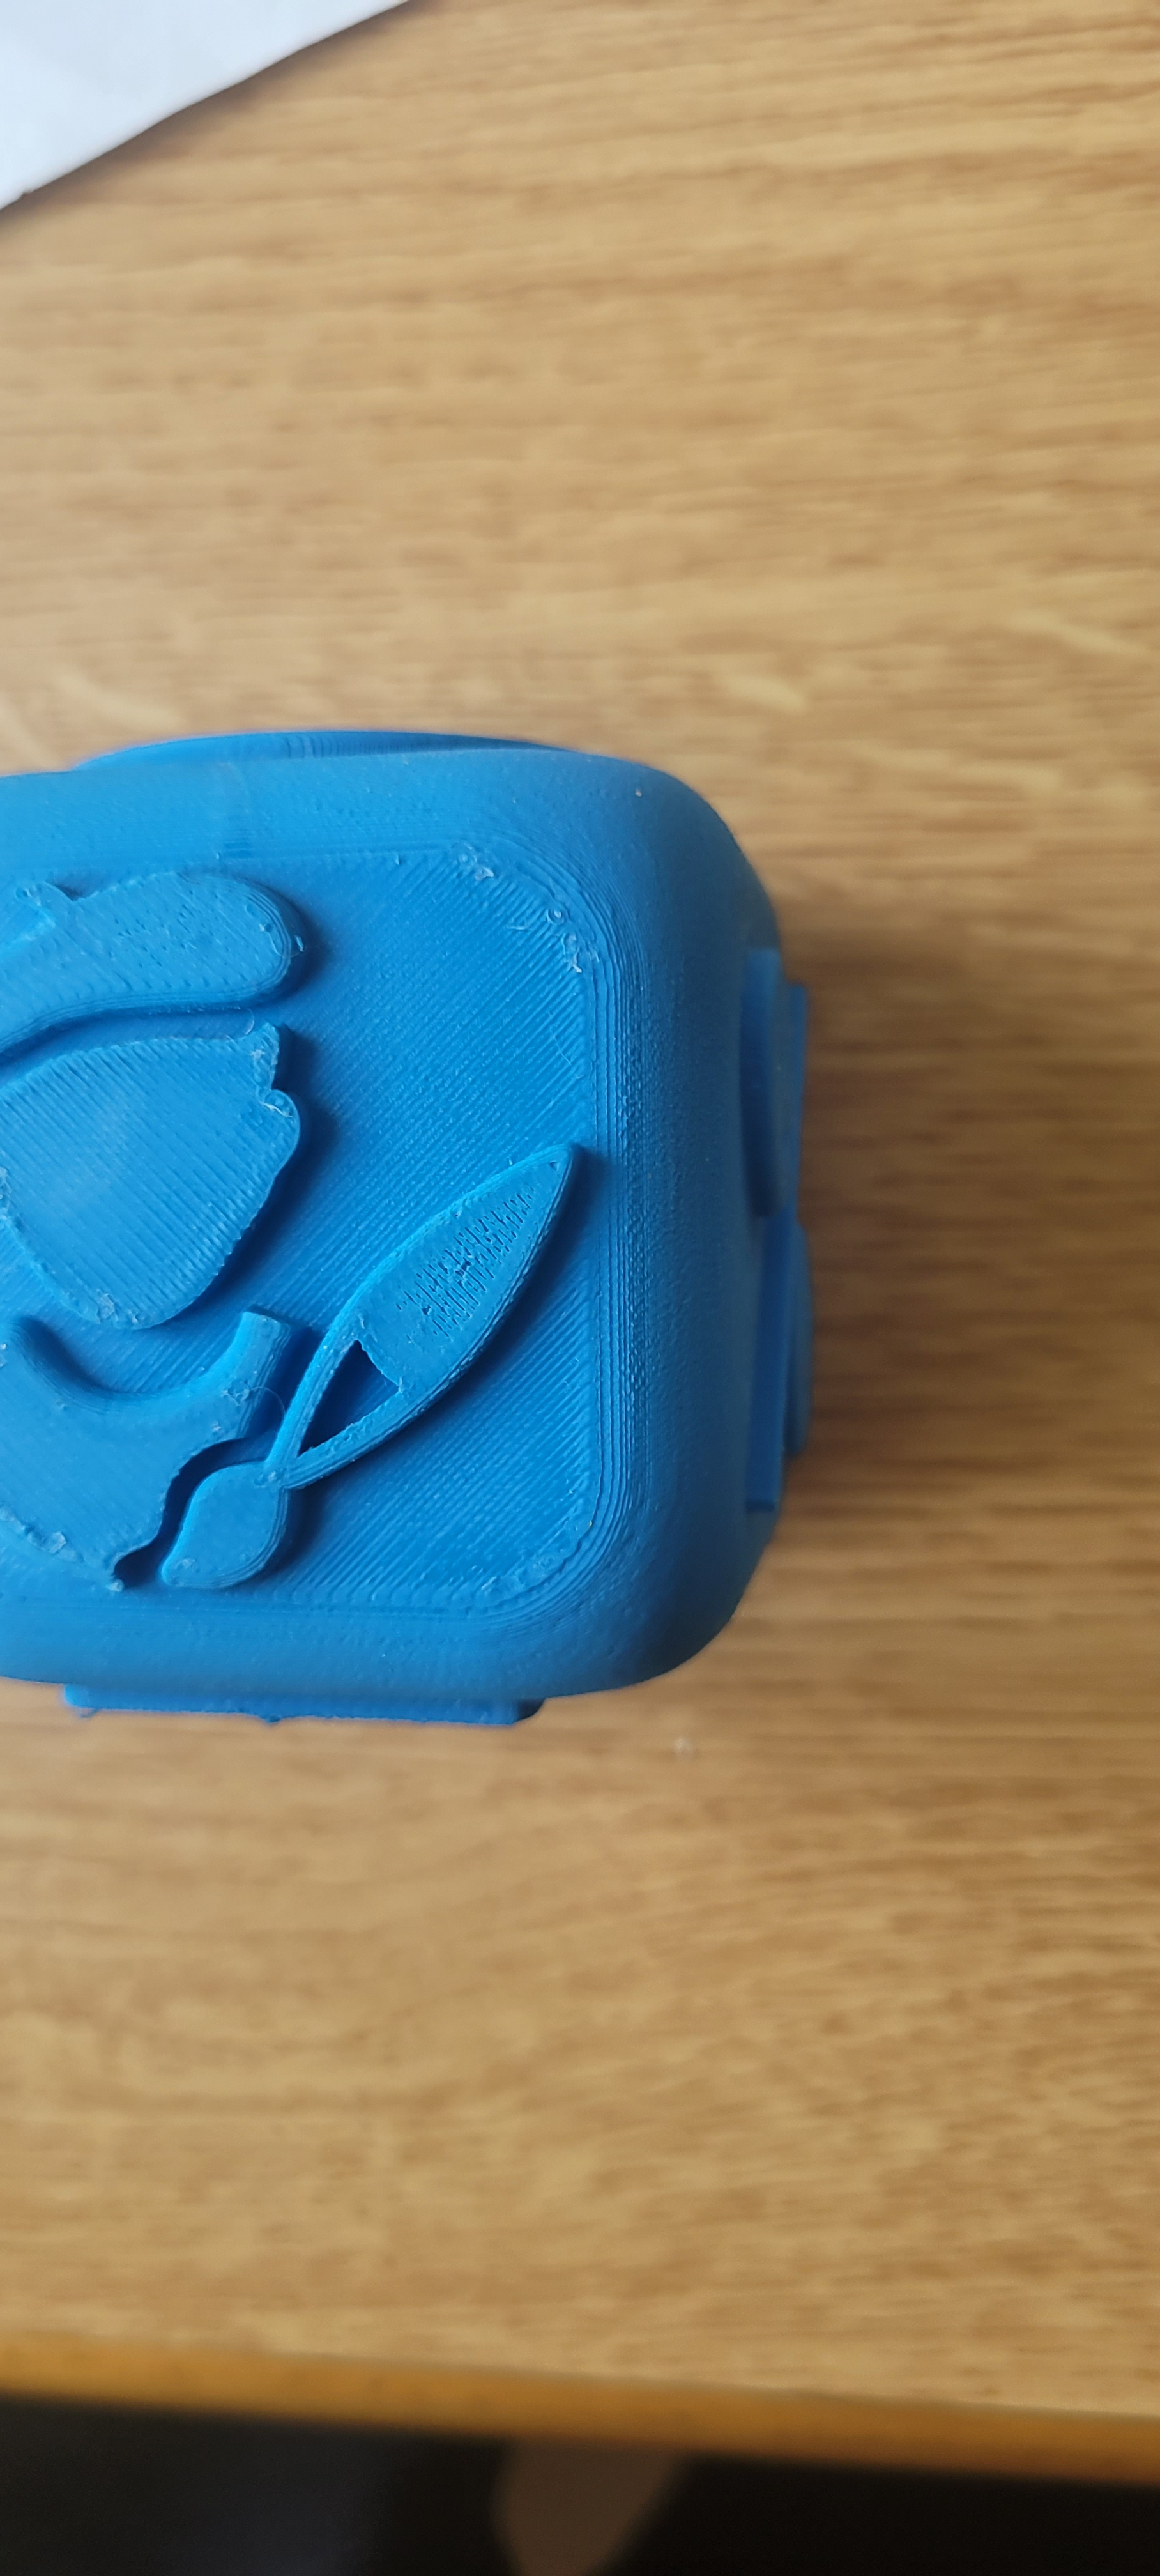Artist_Info: (0, 708, 748, 1787)
